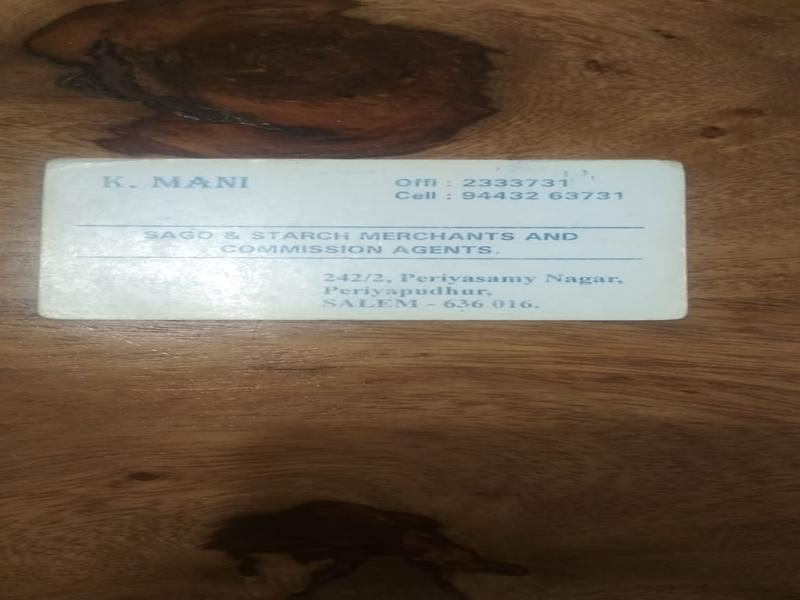card: (37, 154, 691, 323)
